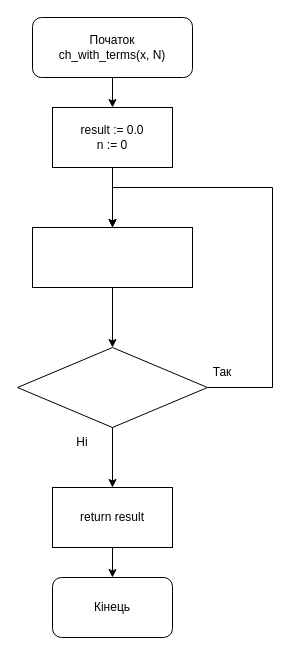
This 298x655 diagram has some shape labels left out. The shapes that lost their labels are listed below. From the top down, each one's centre as x and y in pixels, then its label:
At (112,257): "n := n + 1 result := result + term(n, x)".
At (112,387): "n < N".
